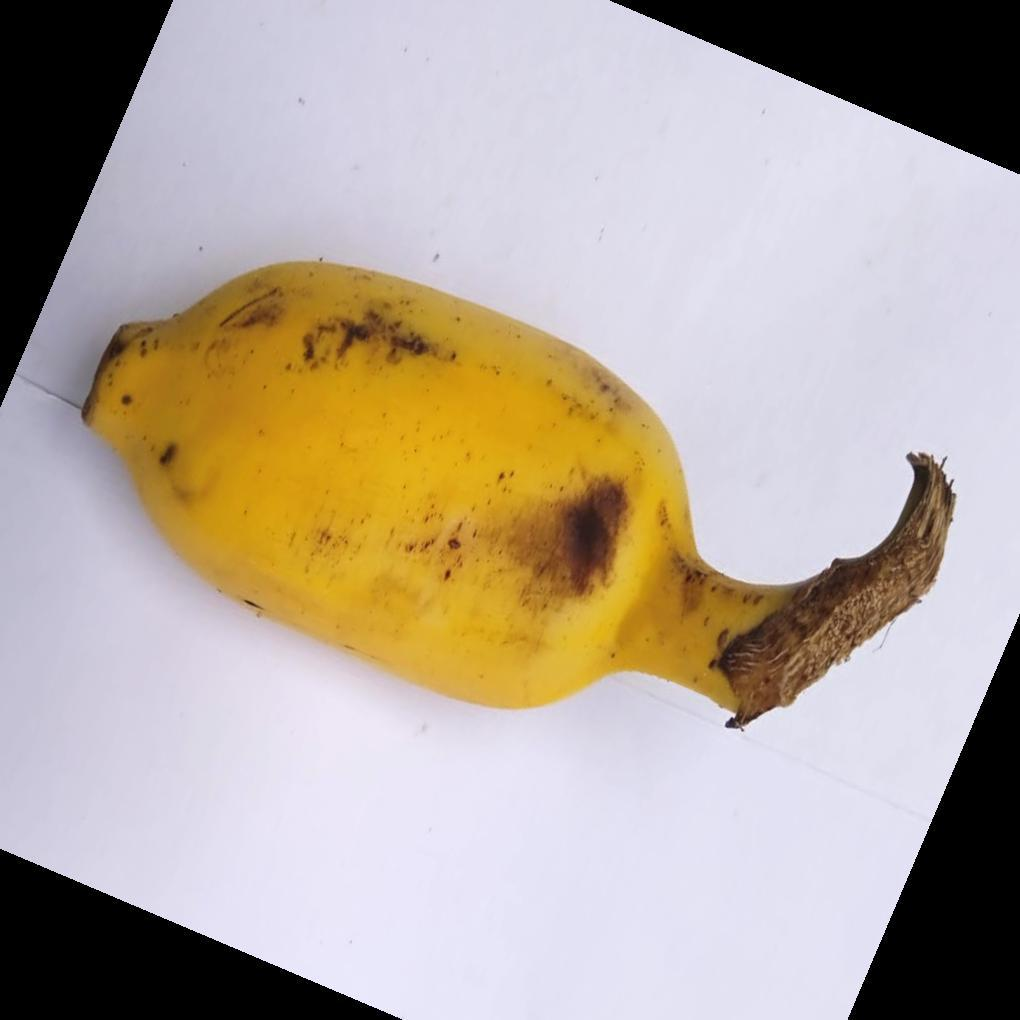Banana Ripe: (82, 260, 959, 811)
